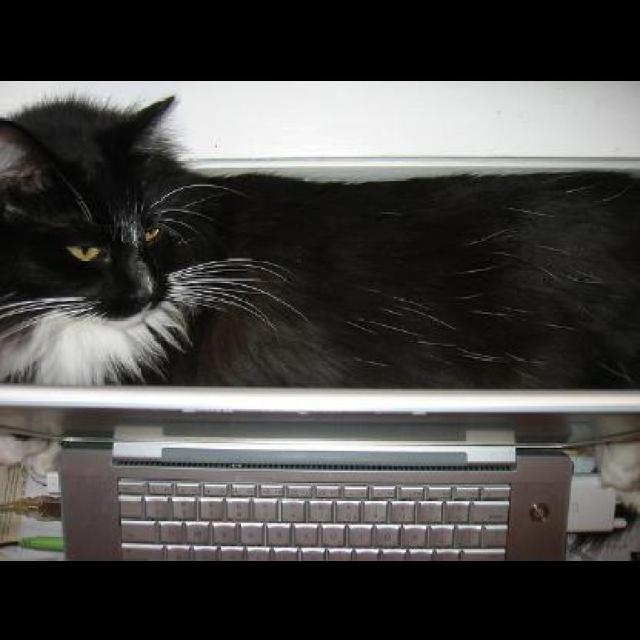unauthorized: (0, 90, 638, 544)
